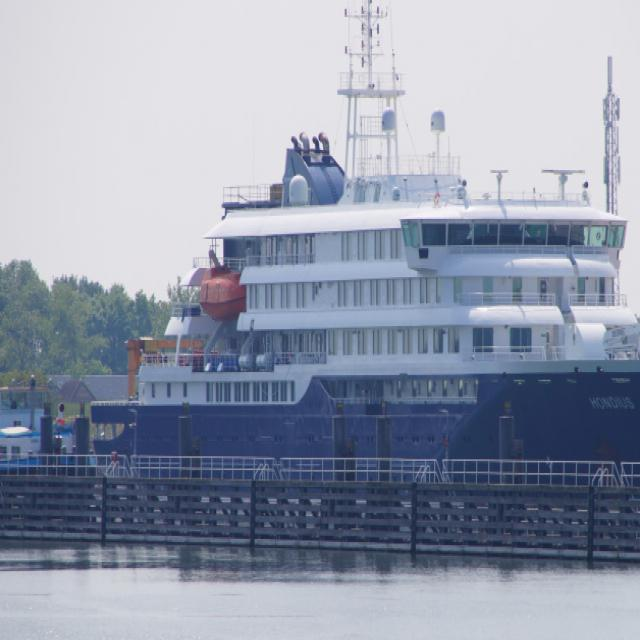cruises: (80, 1, 640, 505)
